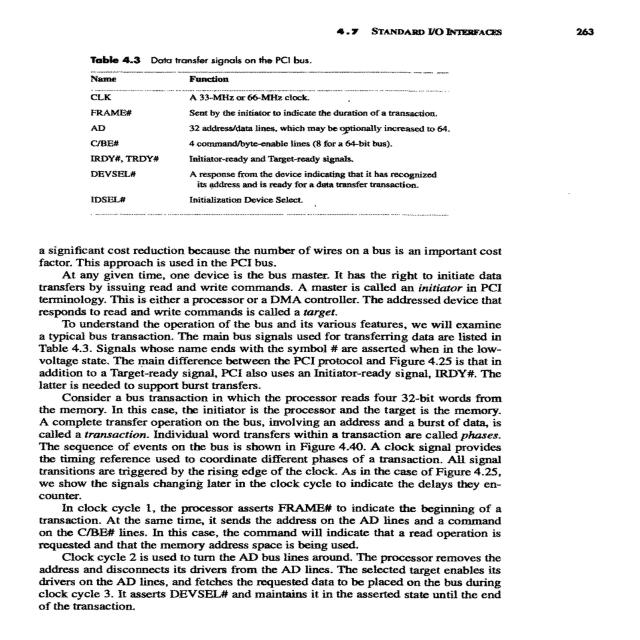diagram: (21, 47, 535, 237)
